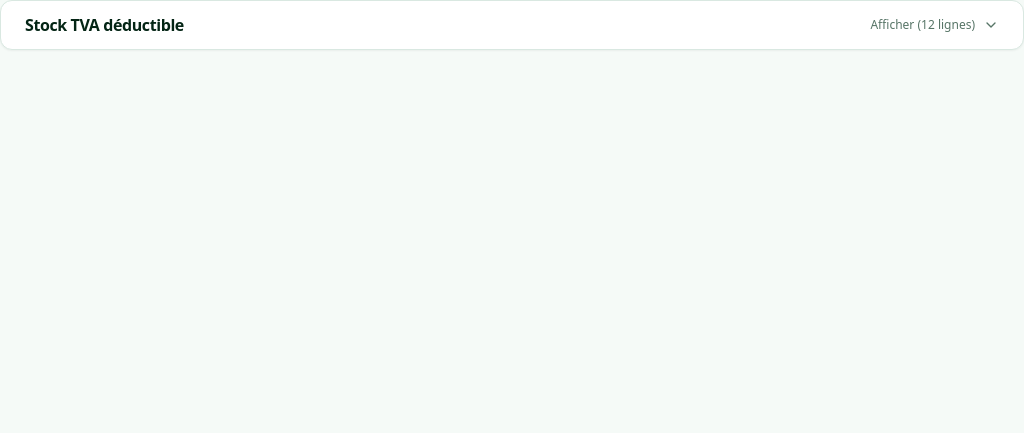
Test: liste repliable et paginée › une liste longue est repliée, puis se parcourt 5 lignes par 5
Check: the text "UT 1" is not shown
Click the text "Afficher (12 lignes)" at {"x": 923, "y": 25}, box x1=870 y1=17 x2=975 y2=33
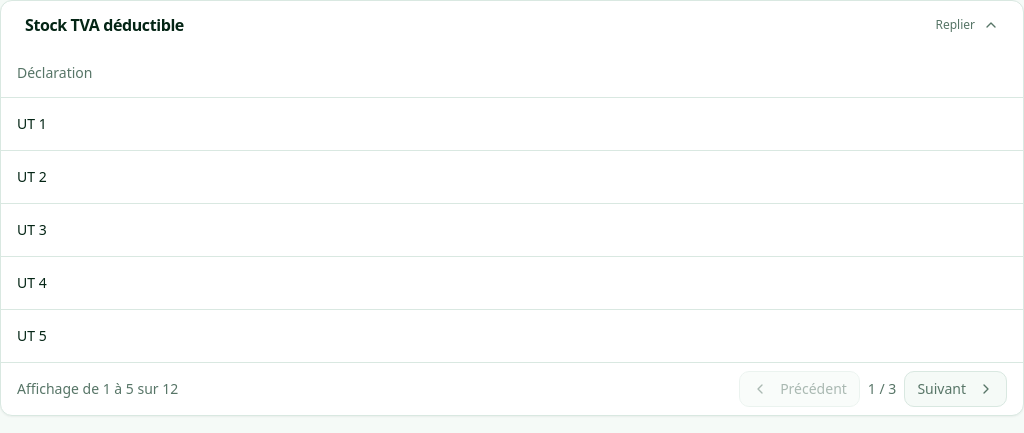
Check: the text "UT 6" is not shown
Check: the text "UT 5" is shown, box x1=1 y1=309 x2=1023 y2=362
Check: the text "Affichage de 1 à 5 sur 12" is shown, box x1=17 y1=378 x2=178 y2=398
Click the button "Suivant" at {"x": 956, "y": 388}, box x1=904 y1=370 x2=1007 y2=406
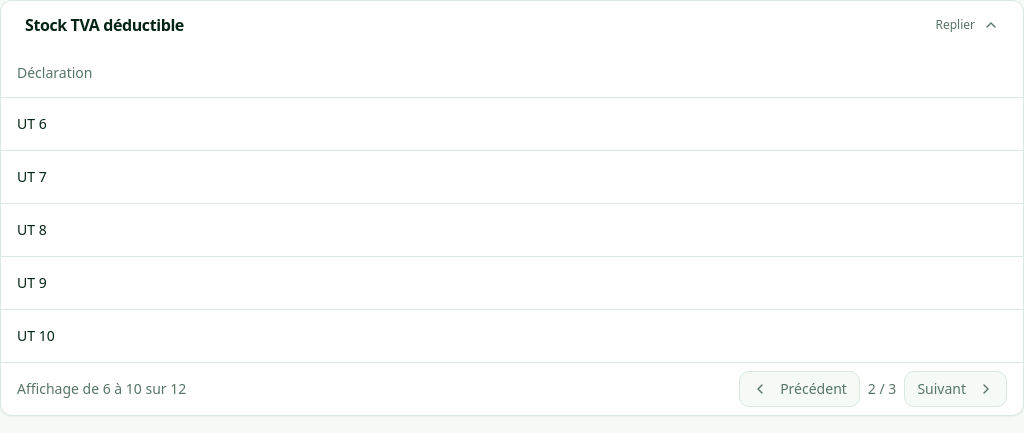
Click the button "Suivant" at {"x": 956, "y": 388}, box x1=904 y1=370 x2=1007 y2=406
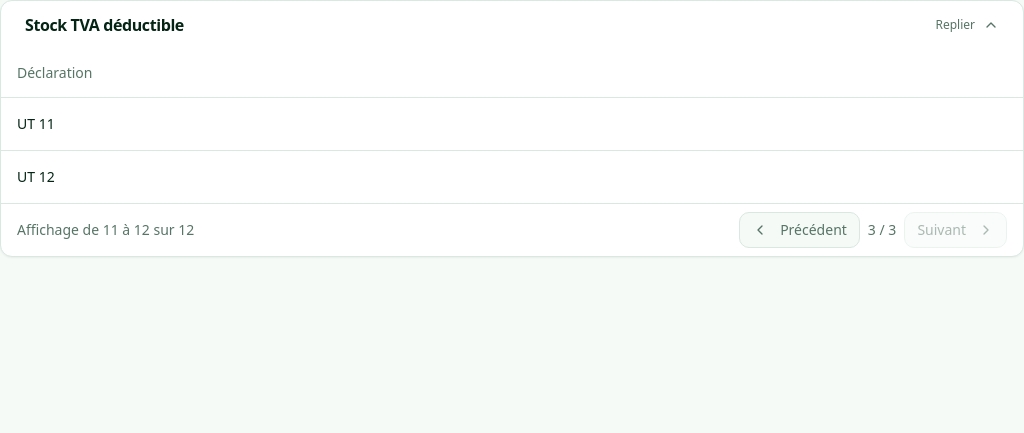
Check: the text "UT 12" is shown, box x1=1 y1=150 x2=1023 y2=202
Check: the button "Suivant" is disabled, box x1=904 y1=212 x2=1007 y2=248
Click the text "Replier" at {"x": 955, "y": 25}, box x1=936 y1=17 x2=975 y2=33
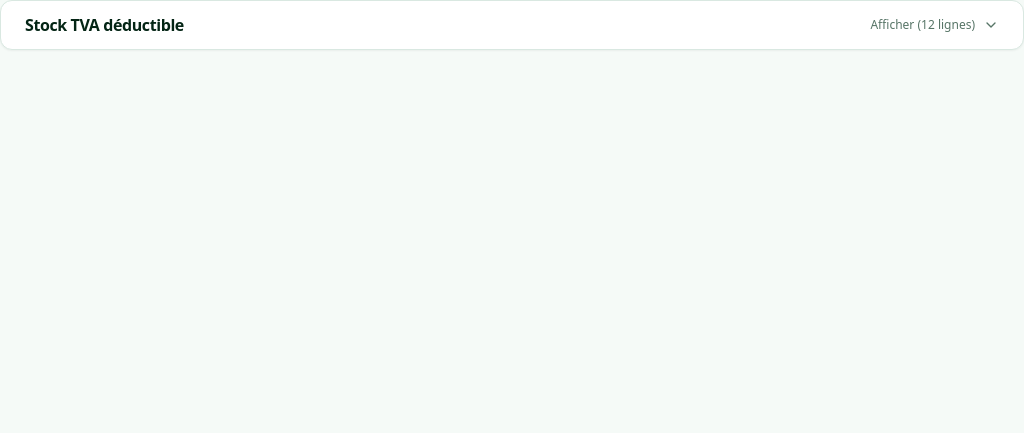
Check: the text "UT 12" is gone
